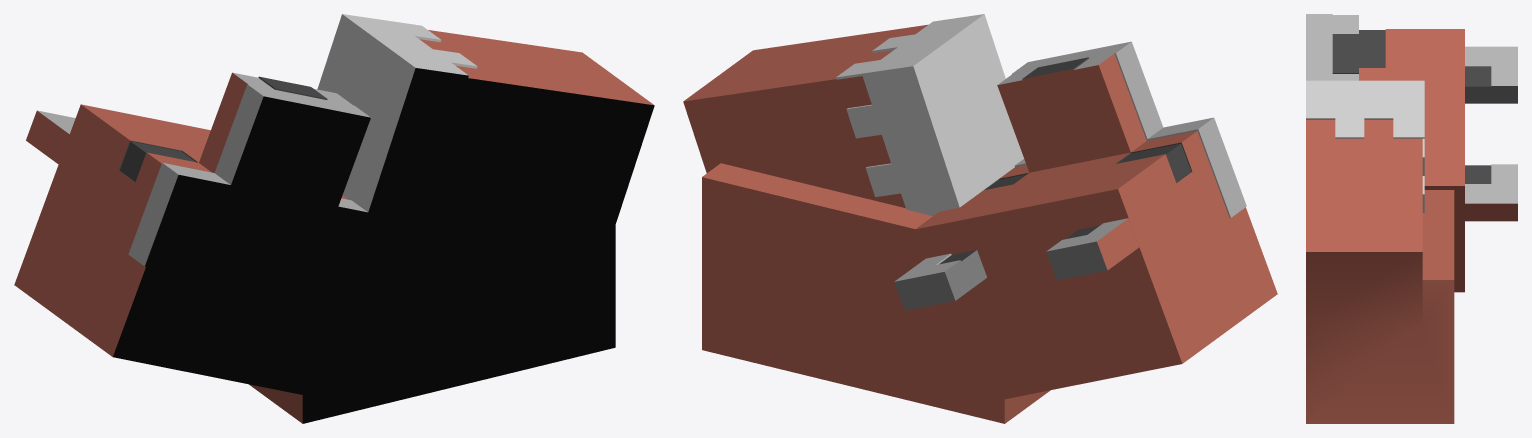
File: SleepingFox.glb
3 renders of one model, left to right at view 1: azimuth 30°, elevation 25°; view 2: azimuth 150°, elevation 25°; view 3: azimuth 270°, elevation 25°, orthographic. The views are drawn at different scales.
Visible parts, largest first — view 1: Object_2; view 2: Object_2; view 3: Object_2.
Part boxes in pixels (box(x1,y1,x2,y2)): Object_2: box(14, 14, 654, 423); Object_2: box(683, 14, 1277, 423); Object_2: box(1306, 14, 1517, 423).
Bounding box in the file's own units: 95.26 × 56.64 × 40.
